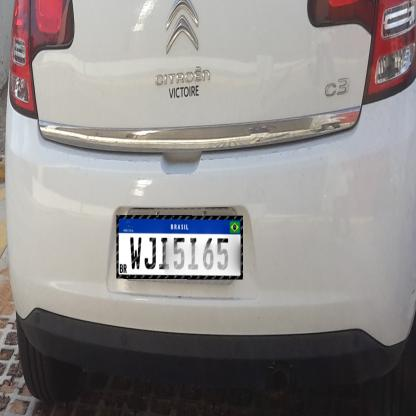PlacaM: (116, 215, 243, 280)
